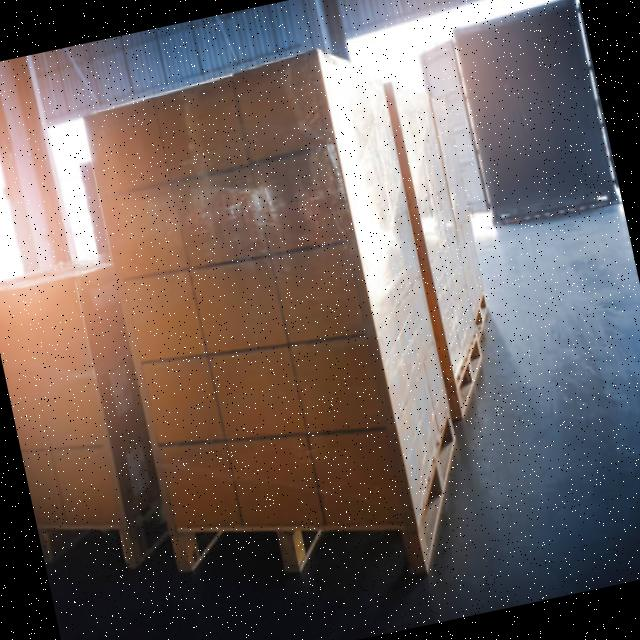Wooden-Pallets: (166, 409, 464, 574), (445, 321, 488, 431)
